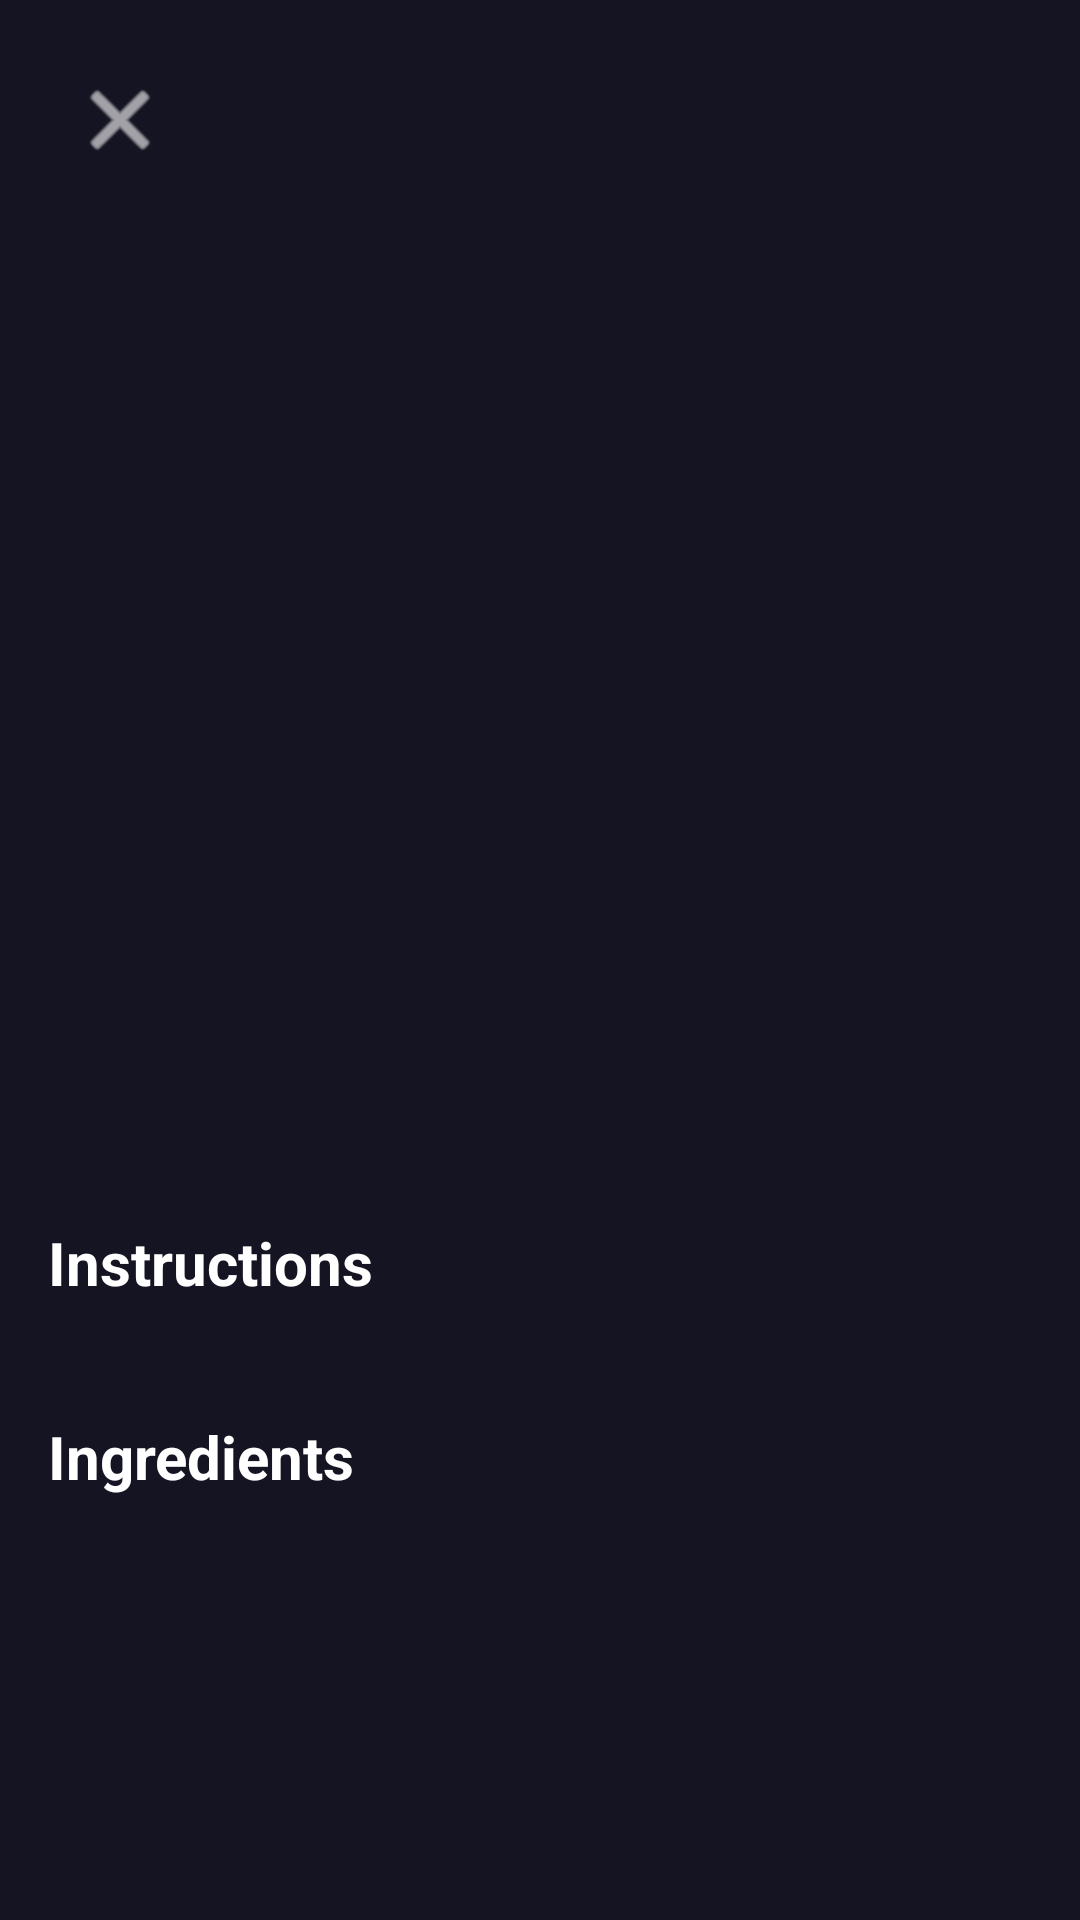

Named icons in this screenshot (1080px x 1920px) and their centers, (x,y):
close clear cancel: (120,120)
